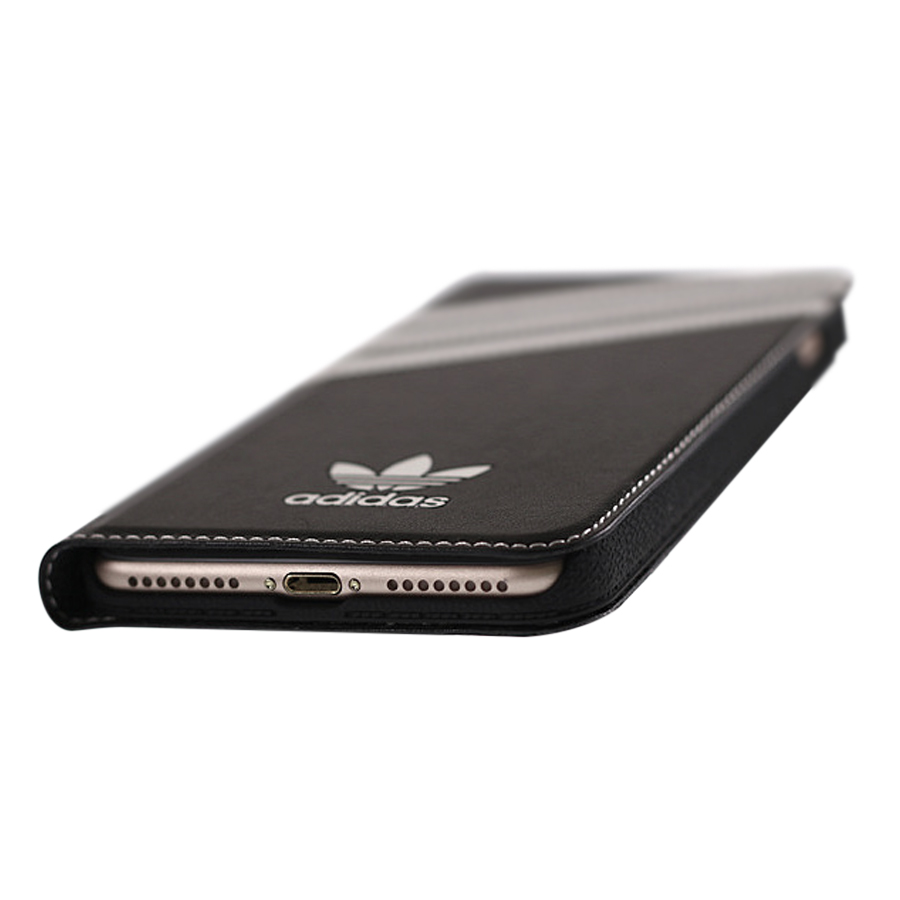Adidas: (276, 447, 497, 518)
